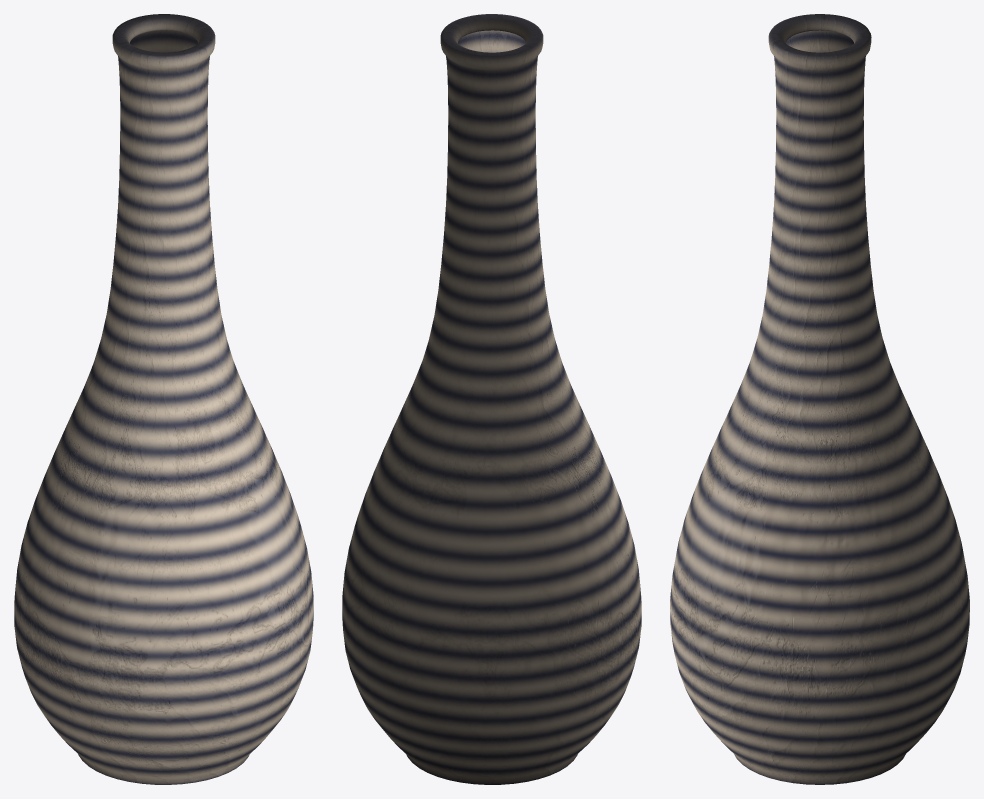
Rendered from cera0022.glb.
The picture shows the model from 3 angles, left to right: view 1: azimuth 30°, elevation 25°; view 2: azimuth 150°, elevation 25°; view 3: azimuth 270°, elevation 25°; orthographic projection.
Visible parts, largest first — view 1: VaseCol02Rustic002; view 2: VaseCol02Rustic002; view 3: VaseCol02Rustic002.
Part boxes in pixels (x1,y1,x2,y2): VaseCol02Rustic002: (14, 14, 313, 784); VaseCol02Rustic002: (342, 14, 641, 784); VaseCol02Rustic002: (670, 14, 969, 784).
Size of the model in its own units: 200 by 525 by 200.
Materials: 1 (1 with a texture image).
